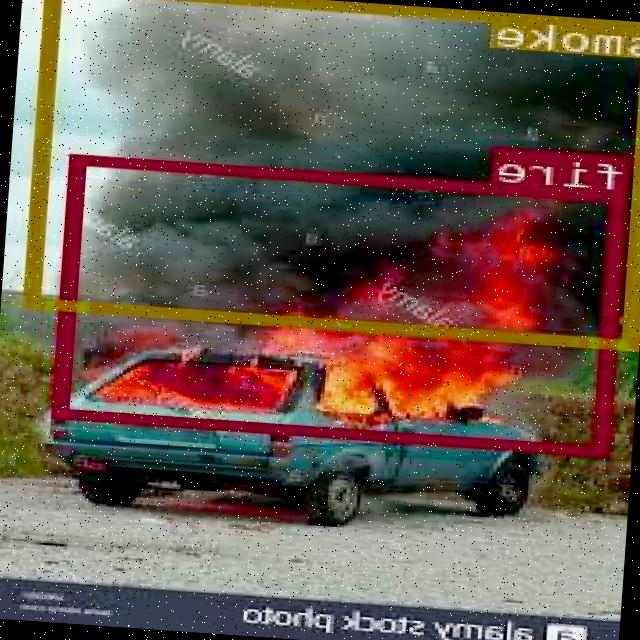fire: (56, 152, 630, 454)
smoke: (29, 0, 640, 347)
